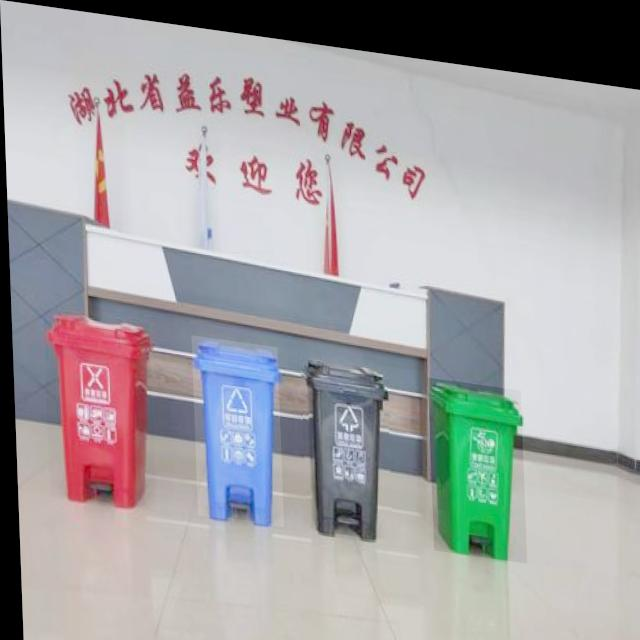garbage_bin: (41, 307, 152, 508), (425, 365, 523, 548), (190, 330, 281, 519), (298, 350, 389, 533)
